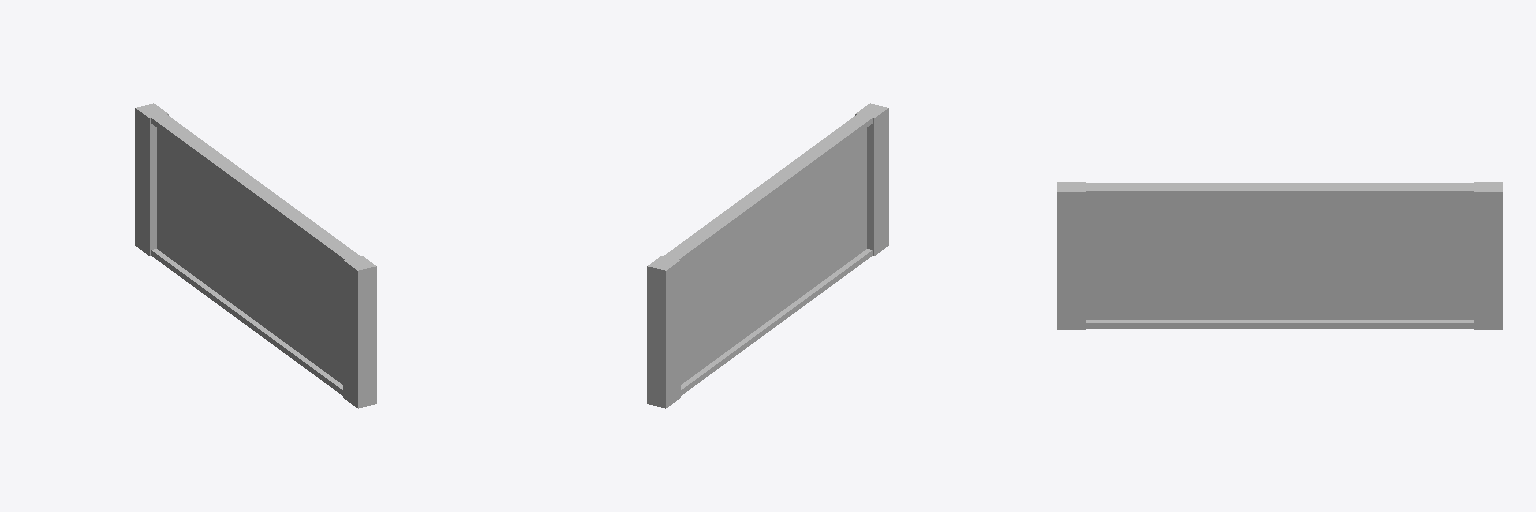
Rendered from MultimedierRoomWallUp.obj.
The picture shows the model from 3 angles: view 1: azimuth 30°, elevation 25°; view 2: azimuth 150°, elevation 25°; view 3: azimuth 270°, elevation 25°; orthographic projection.
Visible parts, largest first — view 1: Object002; view 2: Object002; view 3: Object002.
Boxes of the visible parts, <box> form: Object002: <box>135,103,376,408</box>; Object002: <box>647,103,888,408</box>; Object002: <box>1057,182,1502,329</box>.
Bounding box in the file's own units: 11.95 × 83.29 × 244.